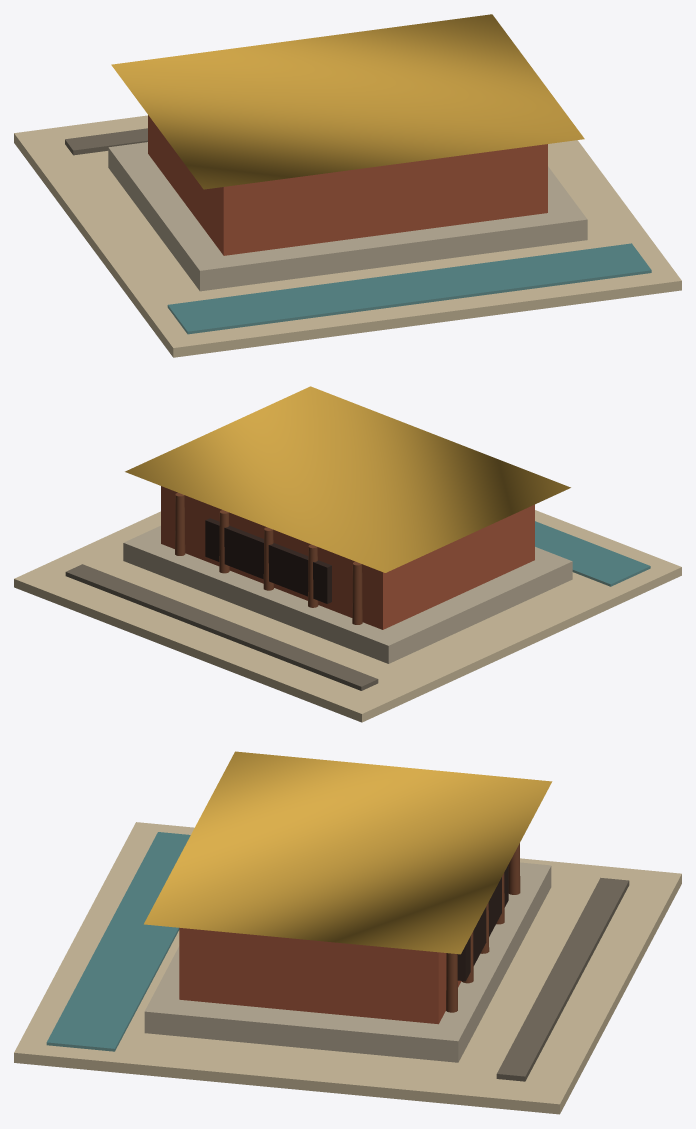
File: model-medium.glb
3 views of the same model, one above another, from view 1: azimuth 30°, elevation 25°; view 2: azimuth 150°, elevation 25°; view 3: azimuth 270°, elevation 25° (orthographic). The views are drawn at different scales.
Parts seen in each view (by area): view 1: sweeping_tiled_roof, context_site_plinth, main_hall_wall_volume, raised_ceremonial_platform, context_water_edge, front_scale_strip; view 2: sweeping_tiled_roof, context_site_plinth, raised_ceremonial_platform, main_hall_wall_volume, front_scale_strip, central_shadow_door, context_water_edge, front_column_1, front_column_5; view 3: context_site_plinth, sweeping_tiled_roof, main_hall_wall_volume, raised_ceremonial_platform, context_water_edge, front_scale_strip, central_shadow_door, front_column_5.
Boxes of the visible parts, left/top/right/bottom form: sweeping_tiled_roof: left=111, top=14, right=584, bottom=189; context_site_plinth: left=14, top=115, right=681, bottom=357; main_hall_wall_volume: left=148, top=115, right=547, bottom=255; raised_ceremonial_platform: left=108, top=142, right=587, bottom=291; context_water_edge: left=167, top=243, right=651, bottom=334; front_scale_strip: left=65, top=128, right=147, bottom=155; sweeping_tiled_roof: left=125, top=386, right=570, bottom=572; context_site_plinth: left=14, top=510, right=681, bottom=722; raised_ceremonial_platform: left=123, top=525, right=572, bottom=663; main_hall_wall_volume: left=161, top=486, right=534, bottom=629; front_scale_strip: left=65, top=564, right=378, bottom=690; central_shadow_door: left=205, top=518, right=331, bottom=603; context_water_edge: left=535, top=521, right=650, bottom=586; front_column_1: left=352, top=561, right=362, bottom=624; front_column_5: left=175, top=492, right=185, bottom=555; context_site_plinth: left=14, top=822, right=681, bottom=1114; sweeping_tiled_roof: left=144, top=751, right=552, bottom=954; main_hall_wall_volume: left=179, top=928, right=461, bottom=1024; raised_ceremonial_platform: left=144, top=862, right=551, bottom=1062; context_water_edge: left=46, top=832, right=190, bottom=1051; front_scale_strip: left=496, top=877, right=629, bottom=1081; central_shadow_door: left=457, top=864, right=508, bottom=981; front_column_5: left=446, top=953, right=457, bottom=1012.
Size of the model in its own units: 9.55 by 2.62 by 9.55.
